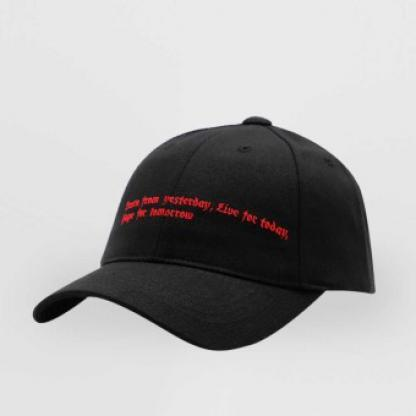cap: (22, 112, 384, 355)
